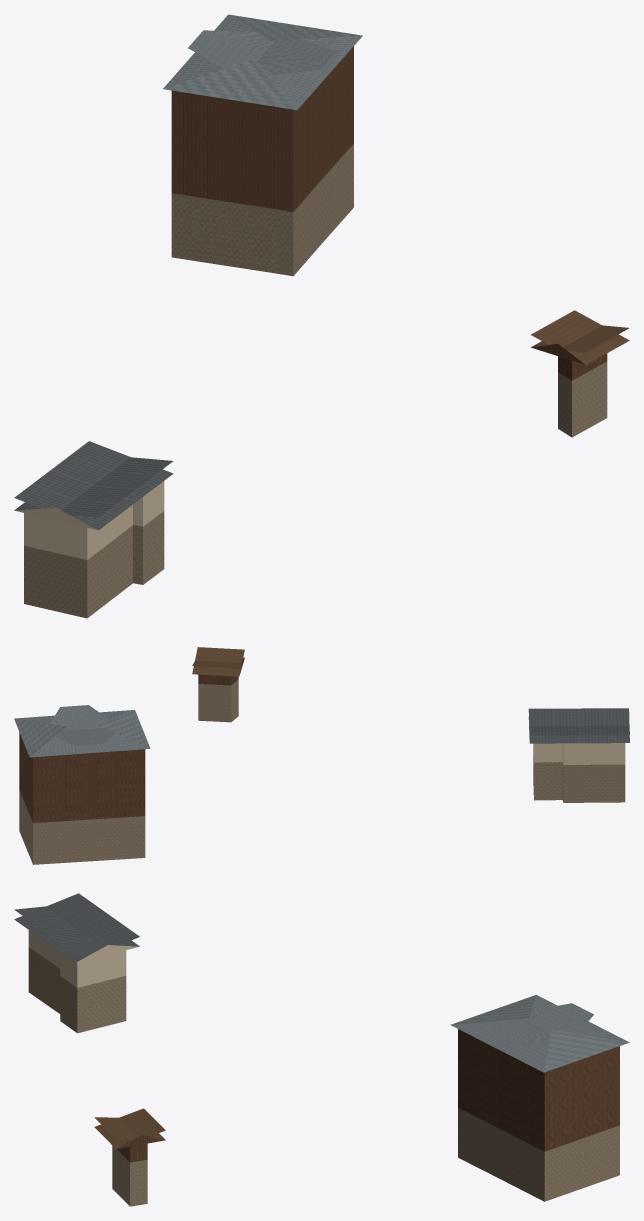
The model's file is bld_c18_28_385.gltf.
3 views of the same model, one above another, from view 1: azimuth 30°, elevation 25°; view 2: azimuth 150°, elevation 25°; view 3: azimuth 270°, elevation 25° (orthographic). The views are drawn at different scales.
Visible parts, largest first — view 1: bld_c18_28_385; view 2: bld_c18_28_385; view 3: bld_c18_28_385.
Boxes of the visible parts, <box> form: bld_c18_28_385: <box>14,14,629,618</box>; bld_c18_28_385: <box>14,647,629,864</box>; bld_c18_28_385: <box>14,893,629,1206</box>.
Bounding box in the file's own units: 53.84 × 16.3 × 56.95.
Materials: 8 (8 with a texture image).
